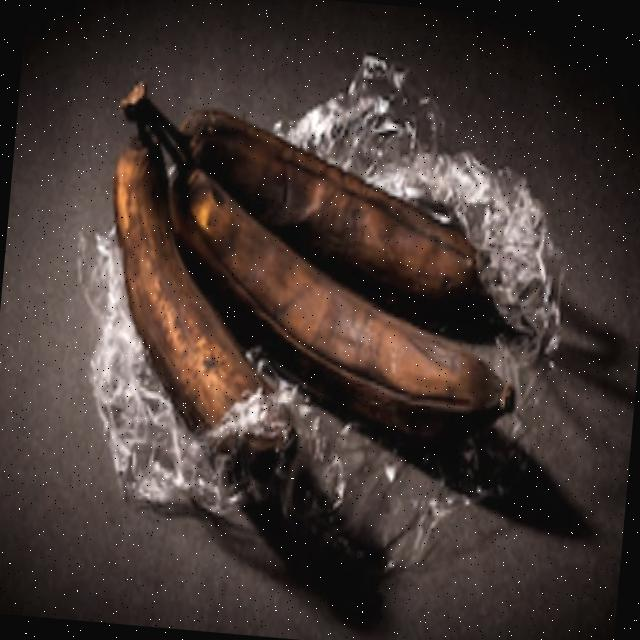rotten banana: (45, 15, 538, 518)
